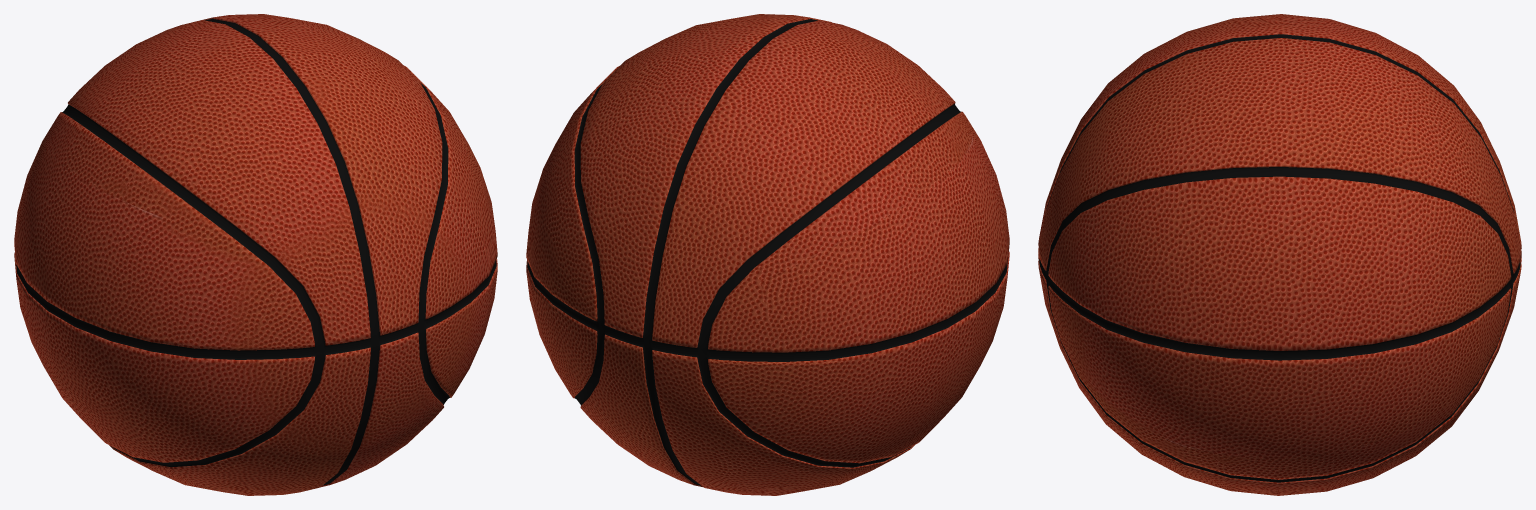
The picture shows the model from 3 angles, left to right: view 1: azimuth 30°, elevation 25°; view 2: azimuth 150°, elevation 25°; view 3: azimuth 270°, elevation 25°; orthographic projection.
Visible parts, largest first — view 1: 篮球; view 2: 篮球; view 3: 篮球.
Part boxes in pixels (x1,y1,x2,y2): 篮球: (14, 14, 497, 495); 篮球: (526, 14, 1009, 495); 篮球: (1038, 14, 1521, 495).
Size of the model in its own units: 26.65 by 26.66 by 26.65.
Materials: 2 (1 with a texture image).
